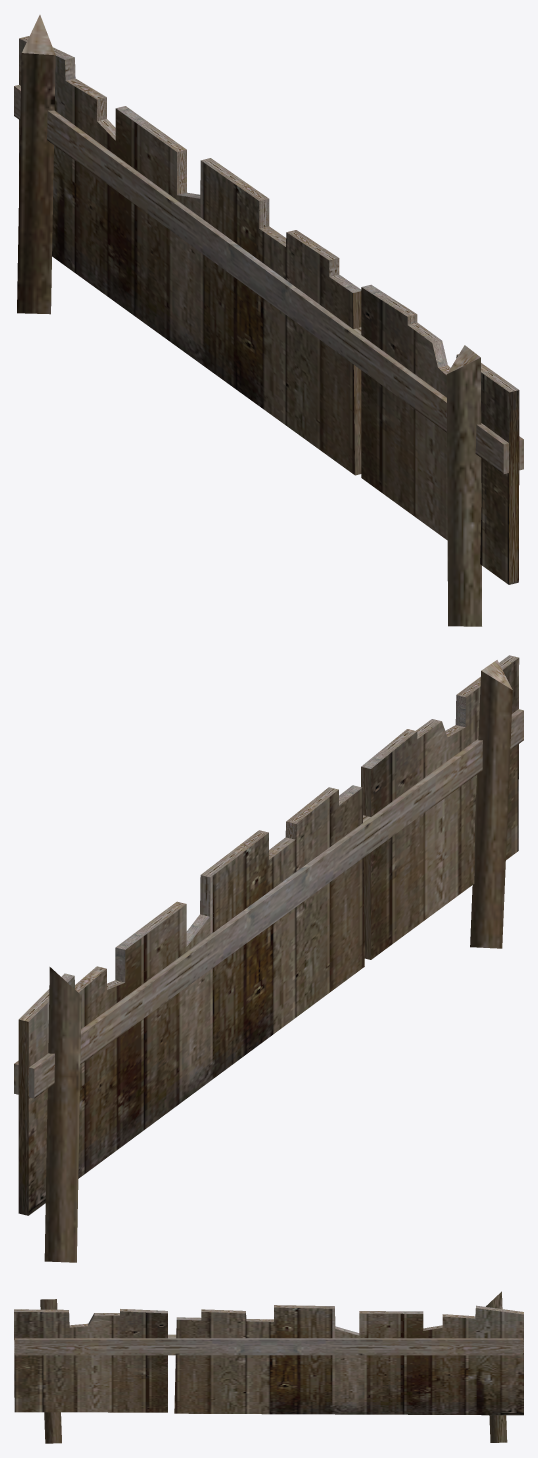
Rendered from rail_fence.glb.
The picture shows the model from 3 angles, top to bottom: view 1: azimuth 30°, elevation 25°; view 2: azimuth 150°, elevation 25°; view 3: azimuth 270°, elevation 25°; orthographic projection. The views are drawn at different scales.
Parts seen in each view (by area): view 1: rail_fence; view 2: rail_fence; view 3: rail_fence.
Boxes of the visible parts, box(x1,y1,x2,y2) form: rail_fence: box(14, 15, 523, 626); rail_fence: box(14, 655, 523, 1262); rail_fence: box(14, 1291, 523, 1443).
Bounding box in the file's own units: 0.25 × 1.61 × 4.92.
1 material, 1 textured.
